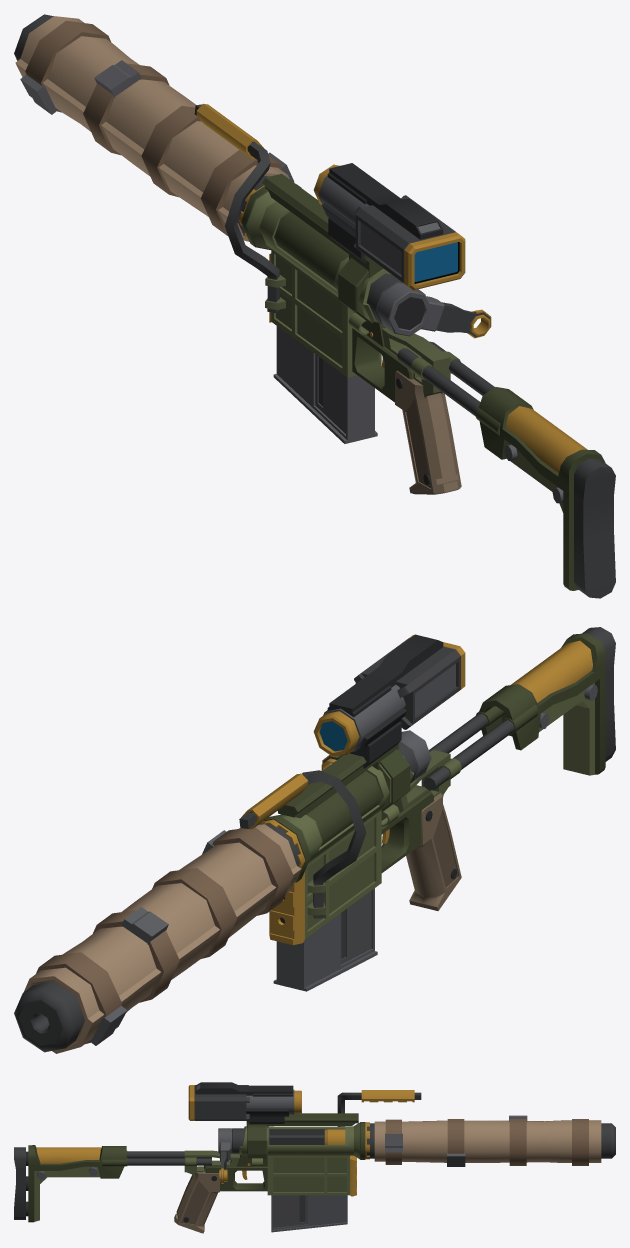
The model's file is rifle.obj.
3 views of the same model, one above another, from view 1: azimuth 30°, elevation 25°; view 2: azimuth 150°, elevation 25°; view 3: azimuth 270°, elevation 25° (orthographic). The views are drawn at different scales.
Visible parts, largest first — view 1: Handle1; view 2: Handle1; view 3: Handle1.
Boxes of the visible parts, <box> form: Handle1: <box>14,14,615,598</box>; Handle1: <box>14,627,615,1053</box>; Handle1: <box>14,1082,615,1233</box>.
Bounding box in the file's own units: 0.798 × 1.33 × 5.01.
1 material, 1 textured.
